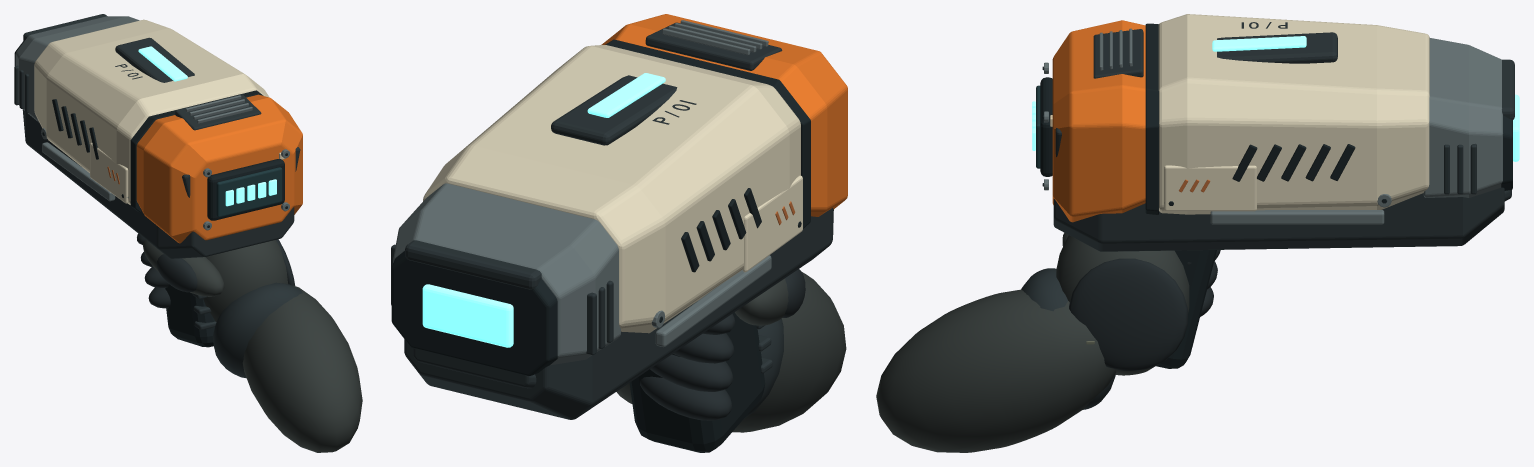
The model's file is pulse.glb.
3 views of the same model, side by side, from view 1: azimuth 30°, elevation 25°; view 2: azimuth 150°, elevation 25°; view 3: azimuth 270°, elevation 25° (orthographic). The views are drawn at different scales.
Visible parts, largest first — view 1: Pulse, Gloves; view 2: Pulse, Gloves; view 3: Pulse, Gloves.
Boxes of the visible parts, box(x1,y1,x2,y2) form: Pulse: box(14, 14, 302, 347); Gloves: box(137, 233, 362, 452); Pulse: box(391, 14, 847, 452); Gloves: box(616, 269, 846, 432); Pulse: box(1032, 14, 1519, 368); Gloves: box(876, 233, 1220, 452).
Bounding box in the file's own units: 0.1904 × 0.3493 × 0.5255.
